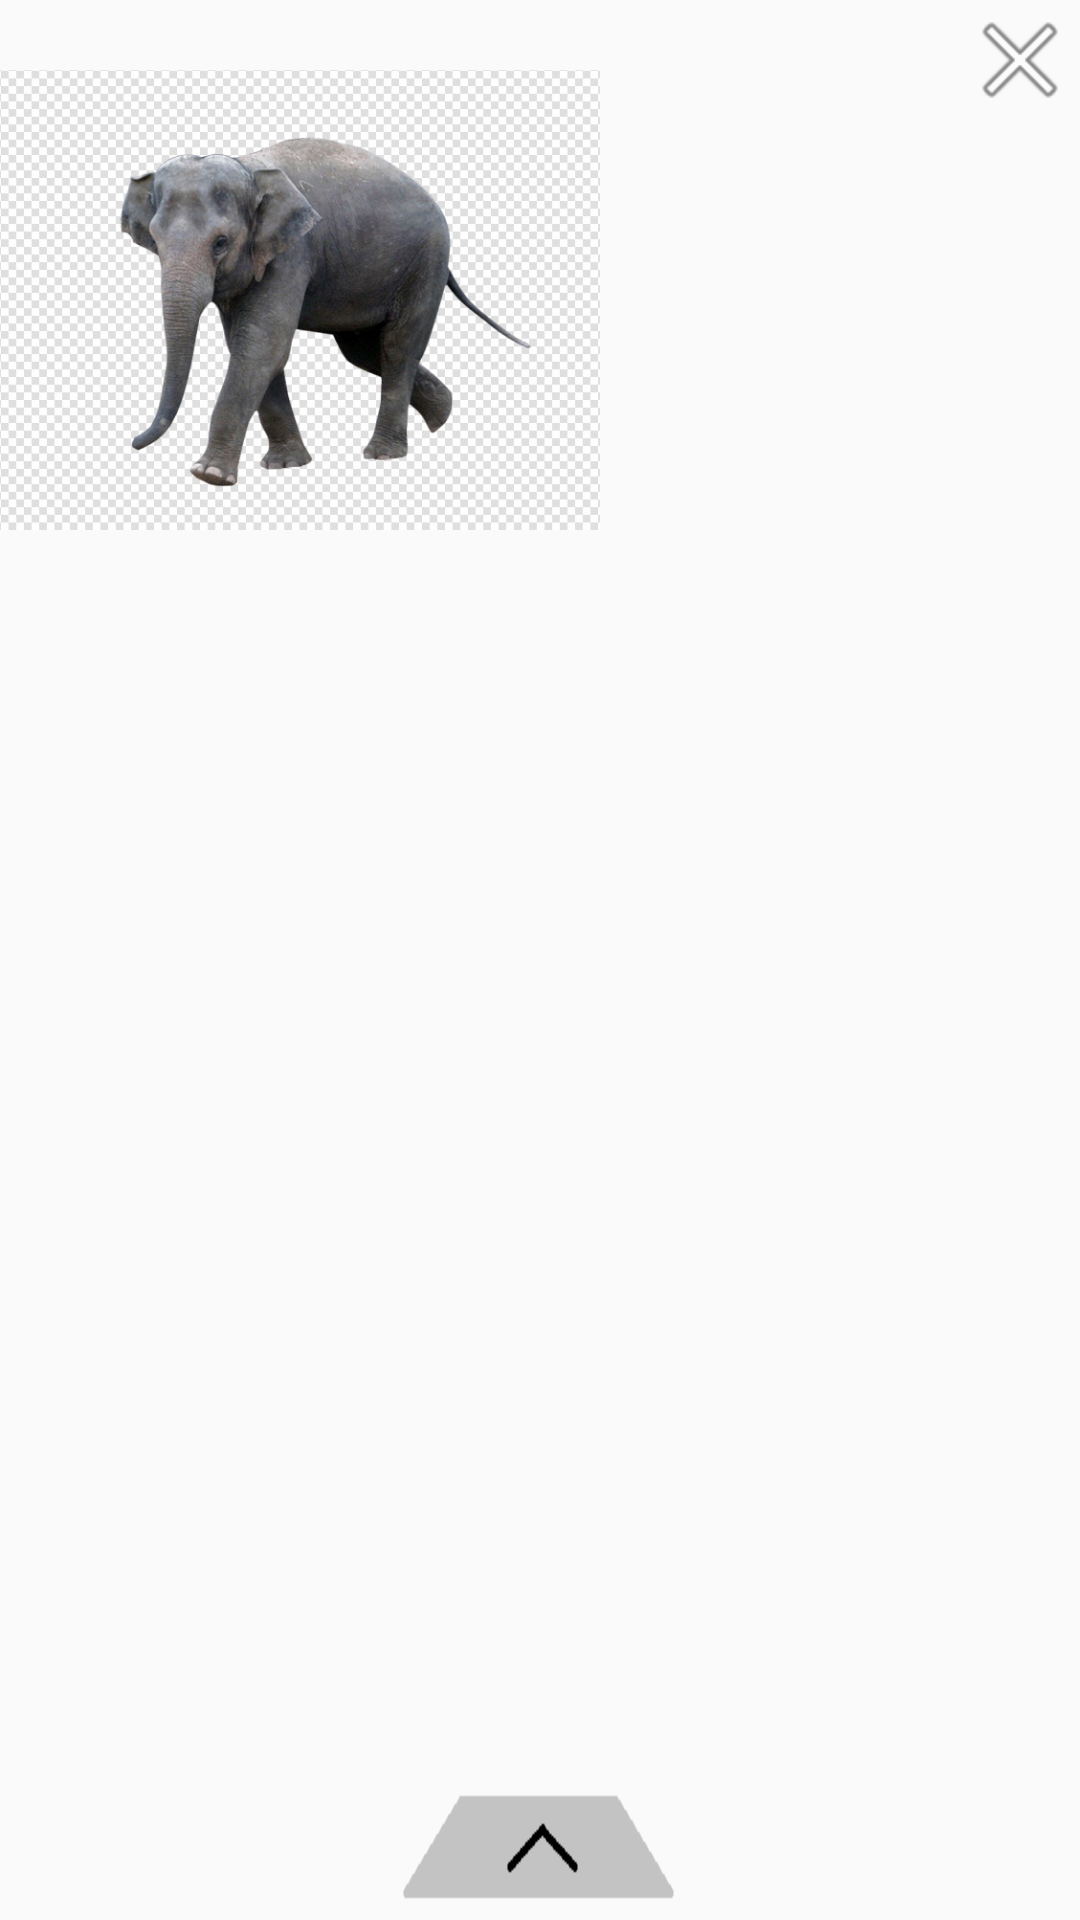

Named icons in this screenshot (1080w x 1920h) and their centers, (x=x, y=y):
close clear cancel: (x=1020, y=60)
